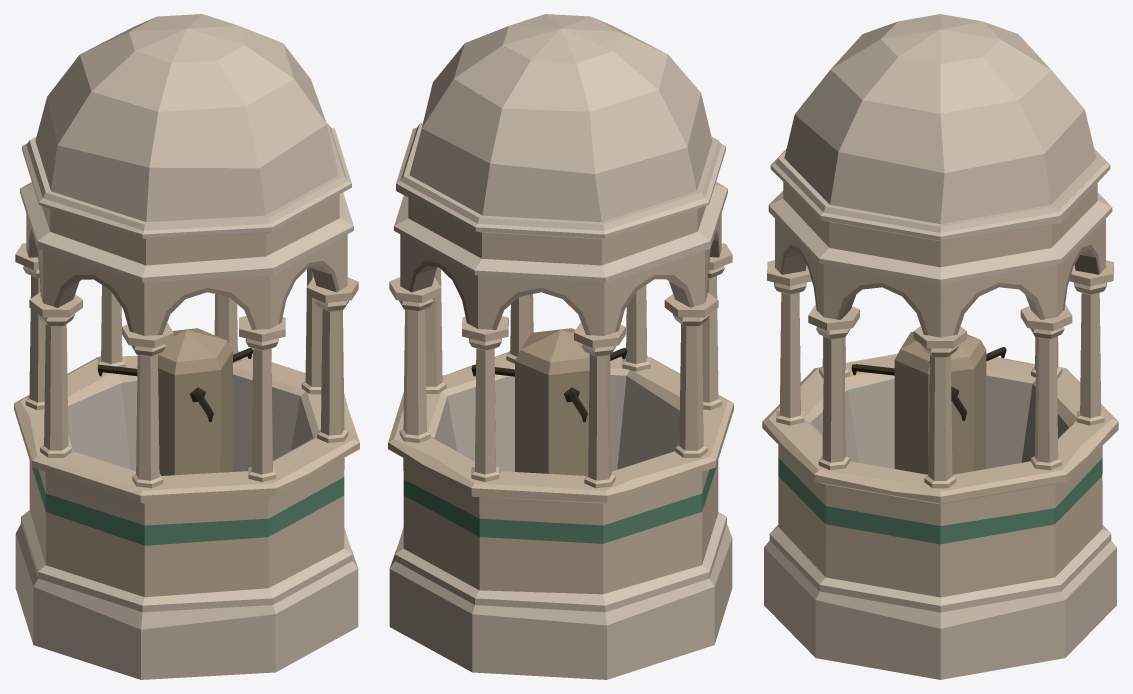
The model's file is SM_Bld_Fountain_02.glb.
3 views of the same model, side by side, from view 1: azimuth 30°, elevation 25°; view 2: azimuth 150°, elevation 25°; view 3: azimuth 270°, elevation 25° (orthographic).
Visible parts, largest first — view 1: SM_Bld_Fountain_02; view 2: SM_Bld_Fountain_02; view 3: SM_Bld_Fountain_02.
Boxes of the visible parts, box(x1,y1,x2,y2) form: SM_Bld_Fountain_02: box(14, 14, 359, 679); SM_Bld_Fountain_02: box(388, 14, 733, 679); SM_Bld_Fountain_02: box(762, 14, 1118, 679).
Size of the model in its own units: 2.59 by 4.62 by 2.59.
Materials: 1 (1 with a texture image).
